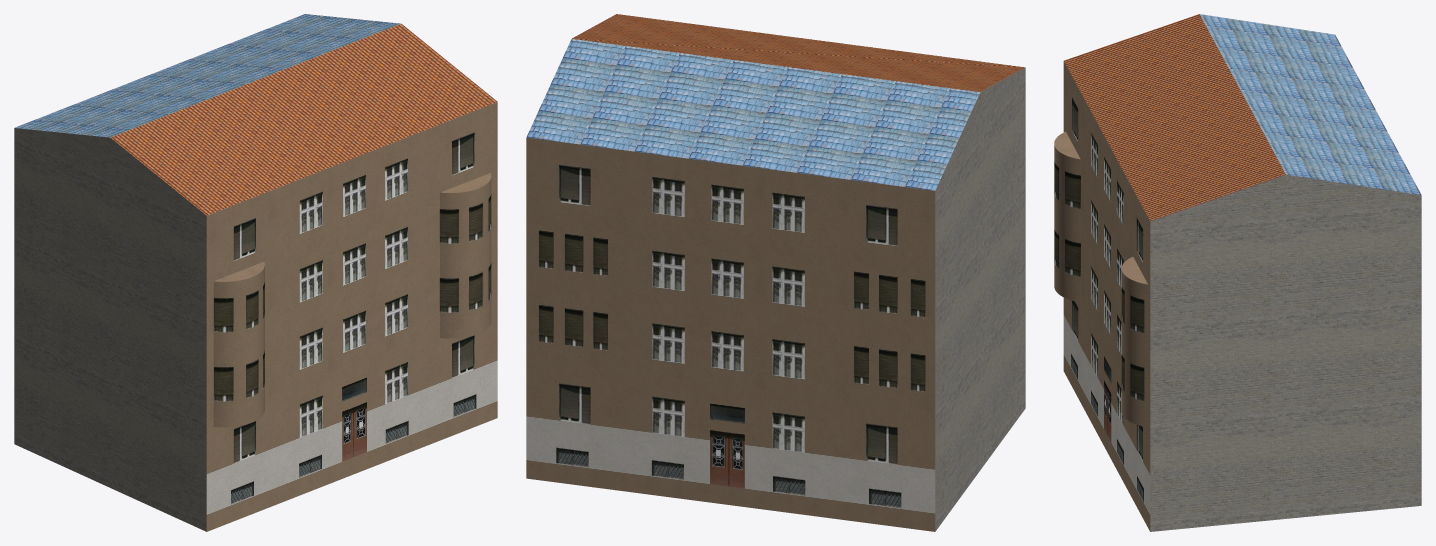
File: Building004.dae
The picture shows the model from 3 angles, left to right: view 1: azimuth 30°, elevation 25°; view 2: azimuth 150°, elevation 25°; view 3: azimuth 270°, elevation 25°; orthographic projection. The views are drawn at different scales.
Parts seen in each view (by area): view 1: SketchUp (×6); view 2: SketchUp (×4); view 3: SketchUp (×6).
Part boxes in pixels (bbox=[...]): SketchUp (×6): bbox=[14, 14, 497, 531]; SketchUp (×4): bbox=[526, 14, 1025, 531]; SketchUp (×6): bbox=[1054, 14, 1421, 531].
Size of the model in its own units: 937 by 779 by 806.
Materials: 5 (5 with a texture image).
